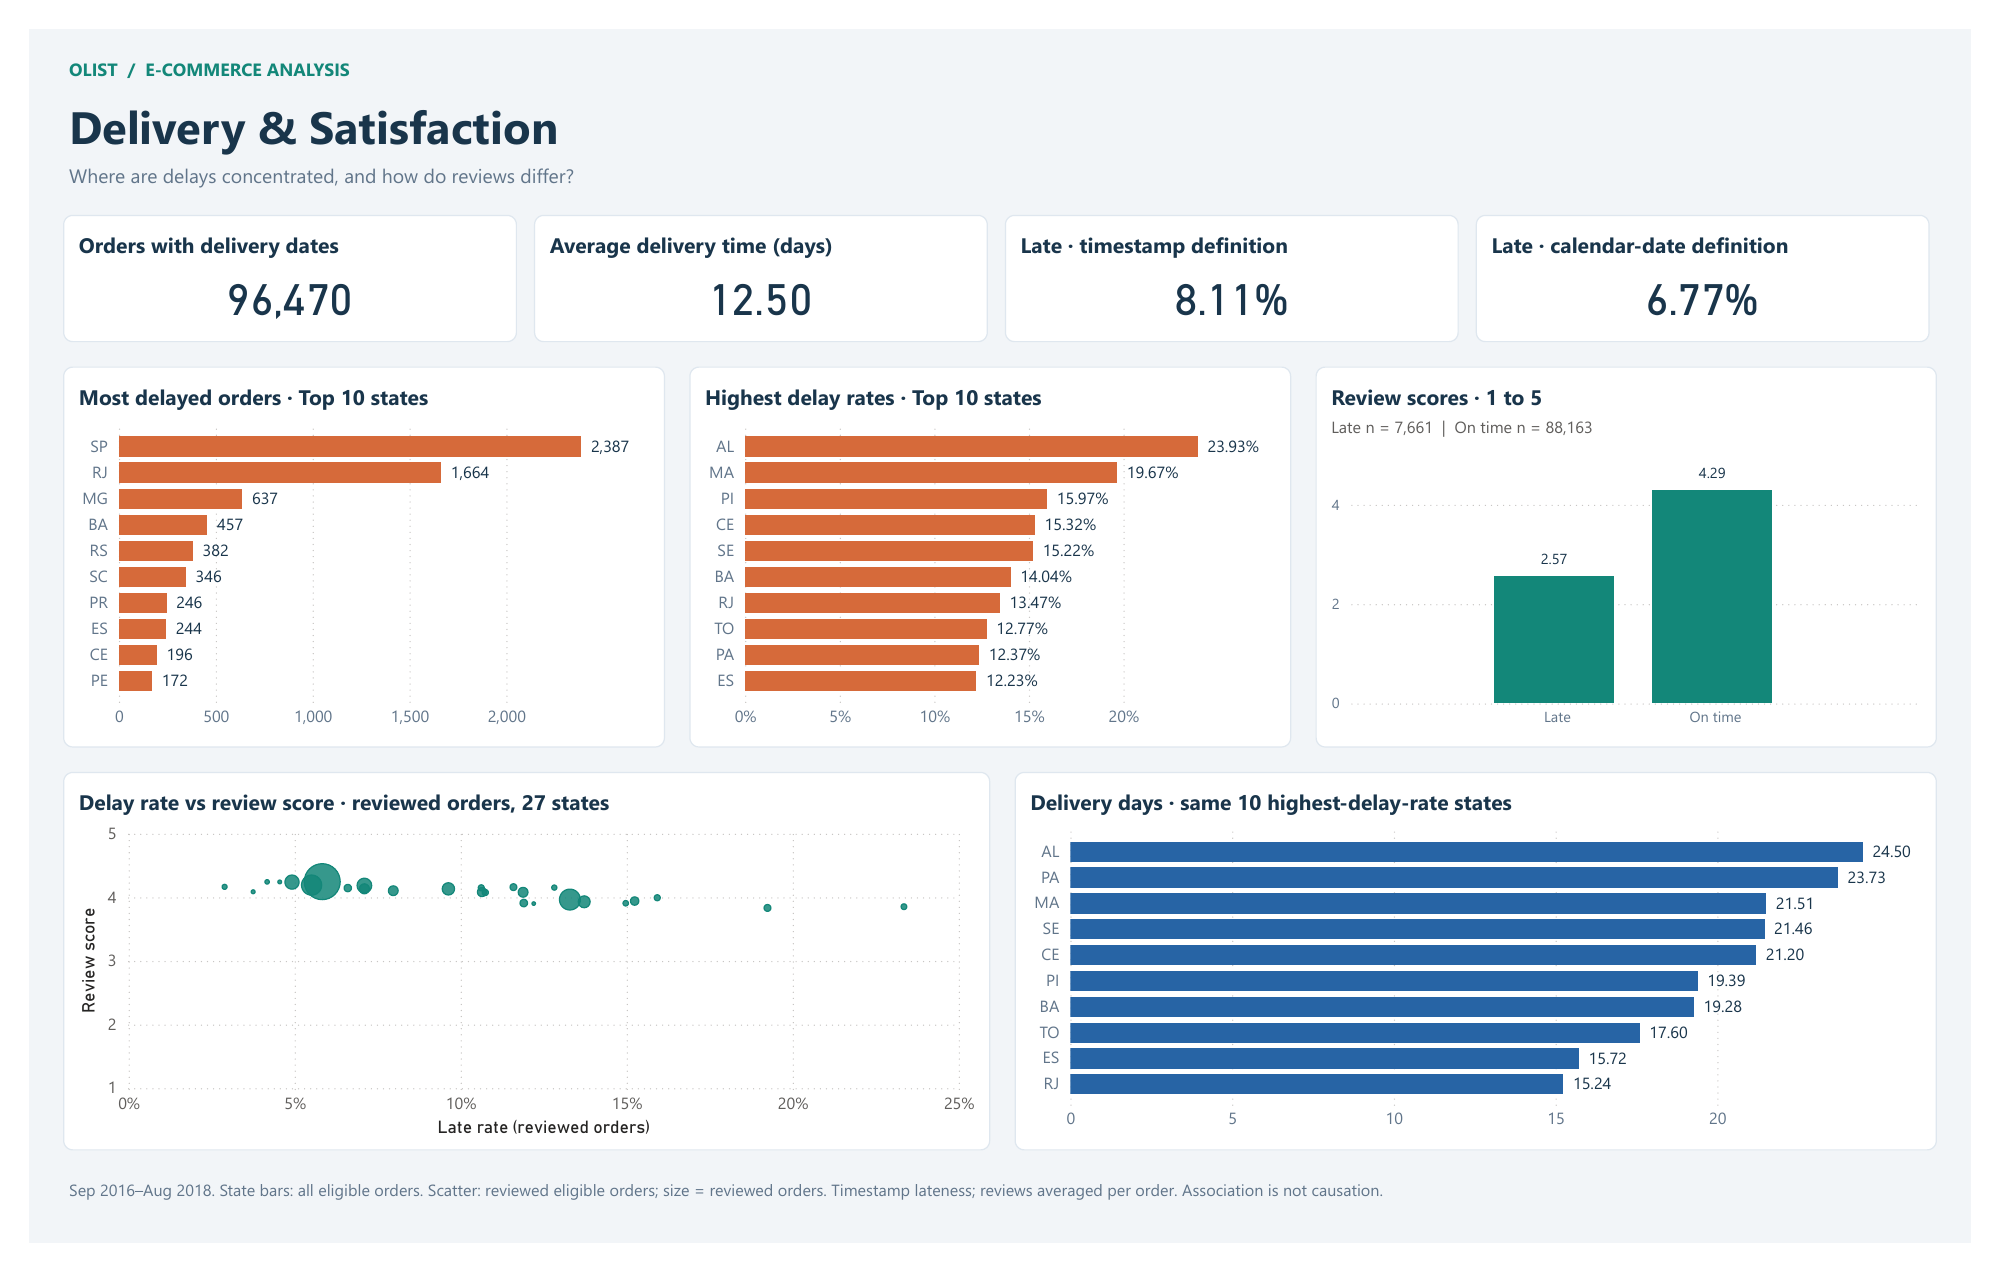

The page's visual inventory and layout, read from the dashboard file:
{"tool":"powerbi","page":{"name":"Delivery & Satisfaction","canvas":[1600,1000],"ordinal":2},"visuals":[{"type":"textbox","box":[28,18,1300,42],"z":0},{"type":"textbox","box":[28,50,1500,70],"z":1000},{"type":"textbox","box":[28,105,1500,43],"z":2000},{"type":"card","title":"Orders with delivery dates","fields":{"Values":["q3_overall.Eligible delivered orders"]},"box":[28,153,374,105],"z":3000},{"type":"card","title":"Average delivery time (days)","fields":{"Values":["q3_overall.Average delivery days"]},"box":[416,153,374,105],"z":4000},{"type":"card","title":"Late · timestamp definition","fields":{"Values":["q3_overall.Timestamp late rate"]},"box":[804,153,374,105],"z":5000},{"type":"card","title":"Late · calendar-date definition","fields":{"Values":["q3_overall.Calendar-date late rate"]},"box":[1192,153,374,105],"z":6000},{"type":"clusteredBarChart","title":"Most delayed orders · Top 10 states","fields":{"Category":["LateCountTop10.customer_state"],"Y":["LateCountTop10.Late orders"]},"box":[28,278,496,314],"z":7000},{"type":"clusteredBarChart","title":"Highest delay rates · Top 10 states","fields":{"Category":["LateRateTop10.customer_state"],"Y":["LateRateTop10.Late rate"]},"box":[544,278,496,314],"z":8000},{"type":"clusteredColumnChart","title":"Review scores · 1 to 5","fields":{"Category":["q3_review_scores.delivery_status"],"Y":["q3_review_scores.Mean review score"]},"box":[1060,278,512,314],"z":9000},{"type":"scatterChart","title":"Delay rate vs review score · reviewed orders, 27 states","fields":{"Category":["q3_state_reviews.customer_state"],"Size":["q3_state_reviews.Reviewed orders by state"],"X":["q3_state_reviews.Late rate (reviewed orders)"],"Y":["q3_state_reviews.Review score"]},"box":[28,612,764,312],"z":10000},{"type":"clusteredBarChart","title":"Delivery days · same 10 highest-delay-rate states","fields":{"Category":["DeliveryDaysTop10.customer_state"],"Y":["DeliveryDaysTop10.Days"]},"box":[812,612,760,312],"z":11000},{"type":"textbox","box":[28,943,1544,43],"z":12000}]}

Visuals, with their boxes in screenshot pixels (x1, y1, x2, y2), scaled from the page's 1600x1000 canvas onto the 2000x1272 screenshot:
textbox: {"x1": 35, "y1": 23, "x2": 1660, "y2": 76}
textbox: {"x1": 35, "y1": 64, "x2": 1910, "y2": 153}
textbox: {"x1": 35, "y1": 134, "x2": 1910, "y2": 188}
"Orders with delivery dates" card: {"x1": 35, "y1": 195, "x2": 502, "y2": 328}
"Average delivery time (days)" card: {"x1": 520, "y1": 195, "x2": 988, "y2": 328}
"Late · timestamp definition" card: {"x1": 1005, "y1": 195, "x2": 1472, "y2": 328}
"Late · calendar-date definition" card: {"x1": 1490, "y1": 195, "x2": 1958, "y2": 328}
"Most delayed orders · Top 10 states" clusteredBarChart: {"x1": 35, "y1": 354, "x2": 655, "y2": 753}
"Highest delay rates · Top 10 states" clusteredBarChart: {"x1": 680, "y1": 354, "x2": 1300, "y2": 753}
"Review scores · 1 to 5" clusteredColumnChart: {"x1": 1325, "y1": 354, "x2": 1965, "y2": 753}
"Delay rate vs review score · reviewed orders, 27 states" scatterChart: {"x1": 35, "y1": 778, "x2": 990, "y2": 1175}
"Delivery days · same 10 highest-delay-rate states" clusteredBarChart: {"x1": 1015, "y1": 778, "x2": 1965, "y2": 1175}
textbox: {"x1": 35, "y1": 1199, "x2": 1965, "y2": 1254}
